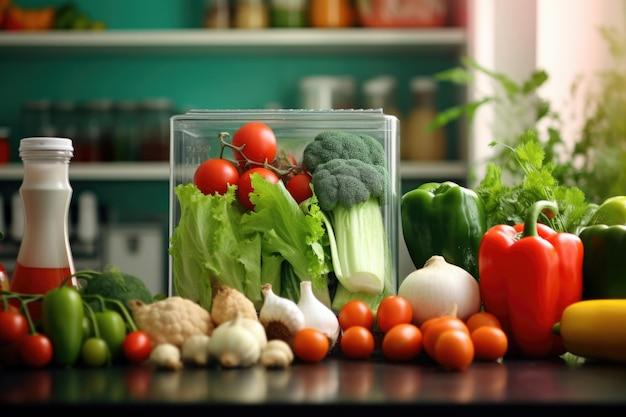bell pepper: (492, 199, 582, 349), (400, 169, 482, 271)
brocolli: (309, 129, 401, 299)
tomato: (338, 289, 518, 370), (188, 116, 307, 204)
